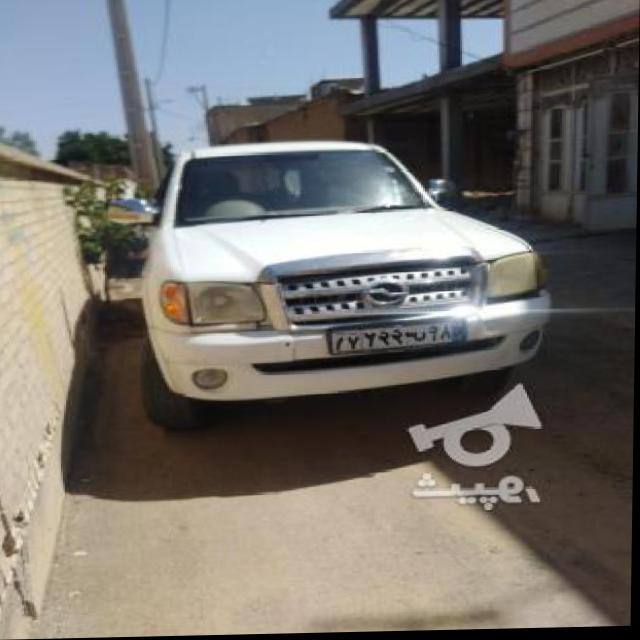licence: (329, 319, 474, 354)
